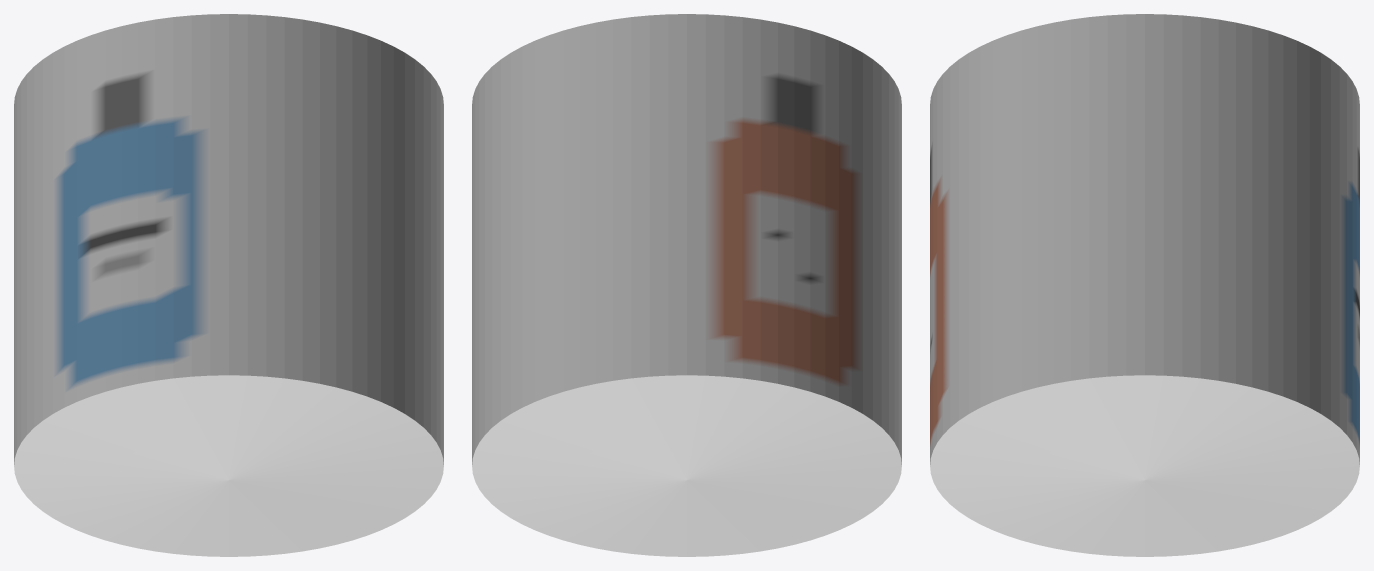
The picture shows the model from 3 angles, left to right: view 1: azimuth 30°, elevation 25°; view 2: azimuth 150°, elevation 25°; view 3: azimuth 270°, elevation 25°; orthographic projection.
Visible parts, largest first — view 1: geometry_0; view 2: geometry_0; view 3: geometry_0.
Part boxes in pixels (x1,y1,x2,y2): geometry_0: (14, 14, 443, 556); geometry_0: (472, 14, 901, 556); geometry_0: (930, 14, 1359, 556).
Bounding box in the file's own units: 1 × 1 × 1.
